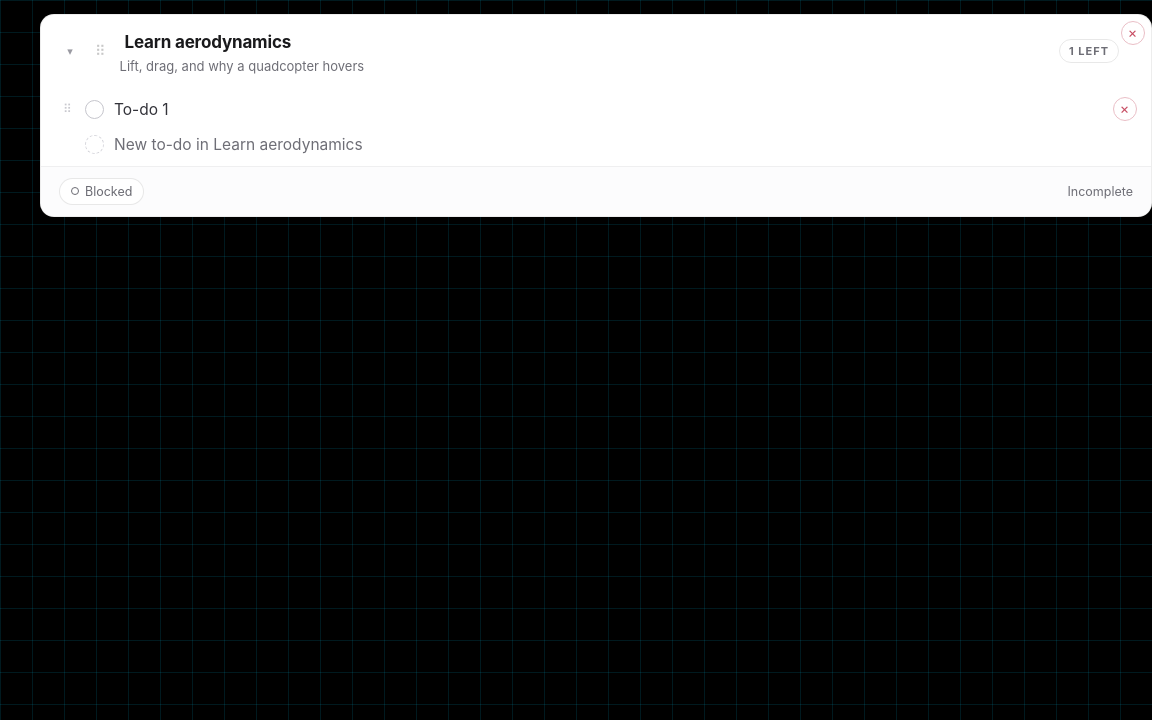
Test: SequenceCard › asks before deleting a sequence holding to-dos, and says where they go
Click the button named "Delete sequence “Learn aerodynamics”": point(1133, 33) 1121,21 -> 1145,45
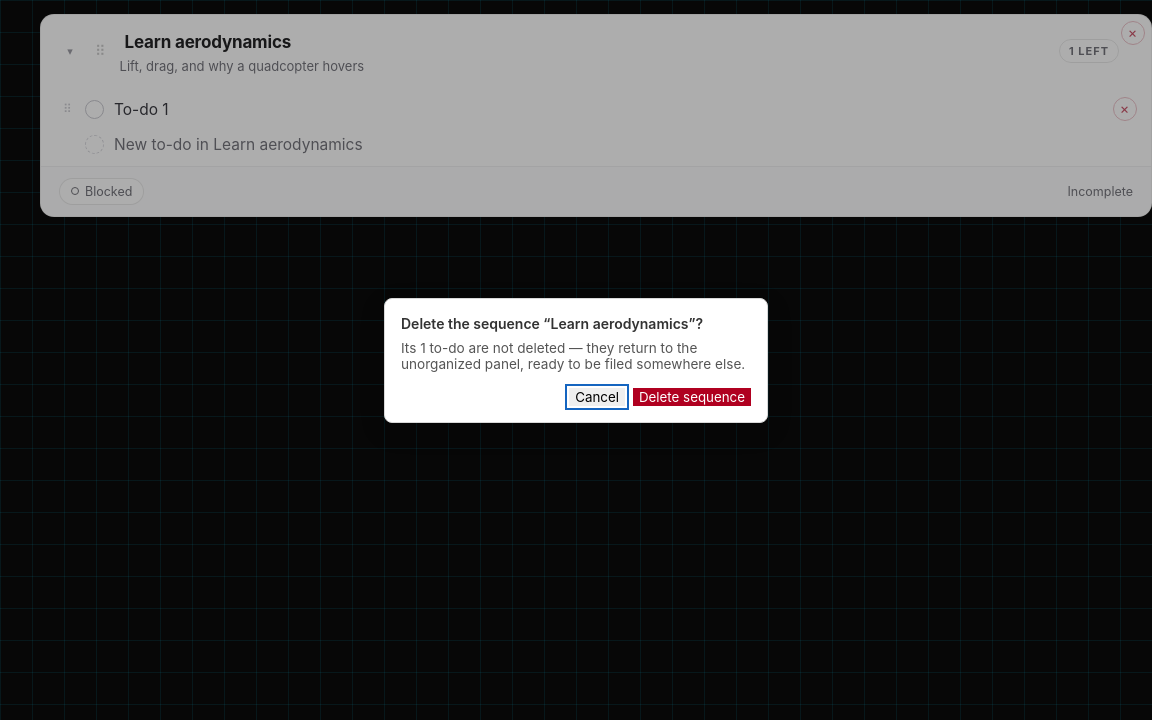
Result: the dialog shows "not deleted" at 401,340 -> 745,372
Result: the dialog shows "unorganized panel" at 401,340 -> 745,372
